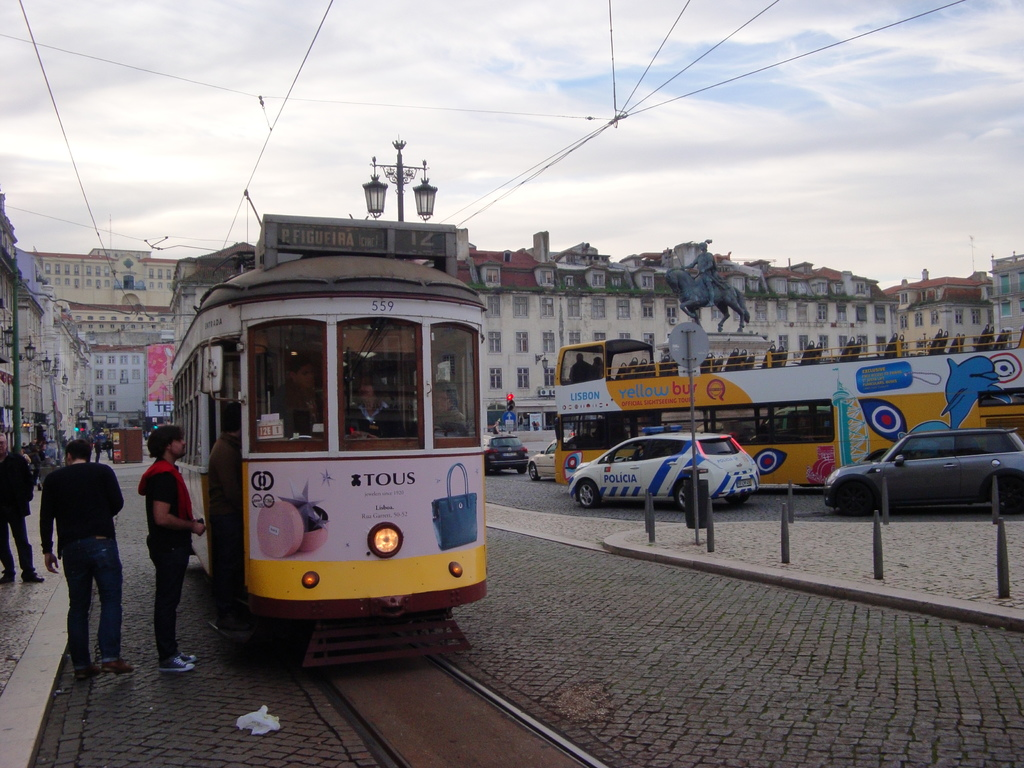Bus: (554, 330, 1023, 486)
